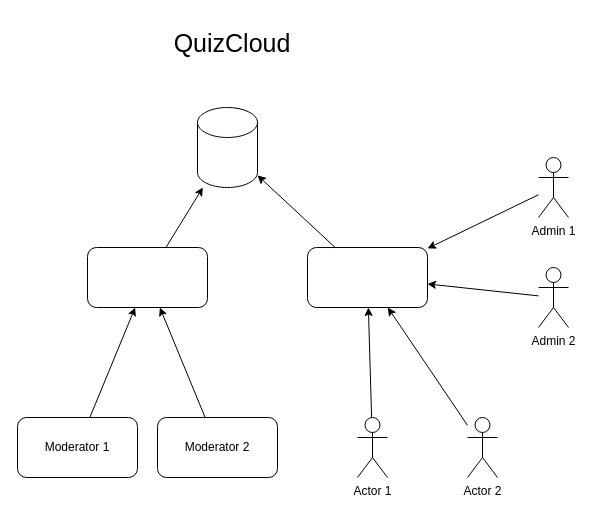
Some shapes in this 593 by 515 pixel diagram are drawn without their labels. Here are the shapes that lost their labels. From the top down, the centre of each, then its label:
At (x=147, y=277): "Hub".
At (x=367, y=277): "QuizFace".
